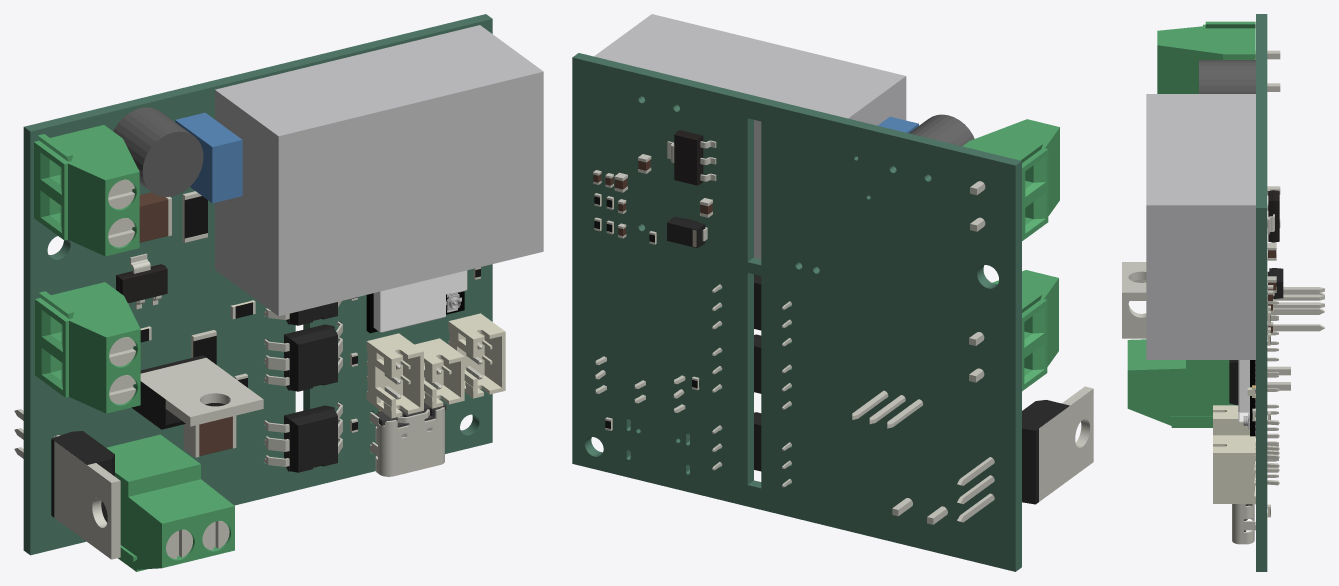
The model's file is board.glb.
The picture shows the model from 3 angles, left to right: view 1: azimuth 30°, elevation 25°; view 2: azimuth 150°, elevation 25°; view 3: azimuth 270°, elevation 25°; orthographic projection. The views are drawn at different scales.
Visible parts, largest first — view 1: PS1, =>[0:1:1:36], =>[0:1:1:29]_75e5cc, =>[0:1:1:3]_1, =>[0:1:1:3]_93bc2a, =>[0:1:1:15]_1_f2f5b0, F1, =>[0:1:1:15], =>[0:1:1:13]_1_2037d8, =>[0:1:1:11]_d8ef07, RV1, =>[0:1:1:27]_49803c (+17 smaller); view 2: =>[0:1:1:36], PS1, =>[0:1:1:15]_1_f2f5b0, =>[0:1:1:3]_93bc2a, =>[0:1:1:3]_1, =>[0:1:1:15]_1_cbd7c0, =>[0:1:1:7]_1_07e9d8, F1, =>[0:1:1:15], =>[0:1:1:35]_588b12; view 3: PS1, =>[0:1:1:36], =>[0:1:1:29]_75e5cc, =>[0:1:1:3]_93bc2a, =>[0:1:1:13]_ce2a75, F1, =>[0:1:1:15], =>[0:1:1:15]_1_f2f5b0, =>[0:1:1:11]_d8ef07, =>[0:1:1:13]_1_2037d8, =>[0:1:1:27]_49803c, =>[0:1:1:7]_1_07e9d8 (+5 smaller).
Part boxes in pixels (x1,y1,x2,y2): PS1: (215, 25, 543, 316); =>[0:1:1:36]: (23, 14, 492, 555); =>[0:1:1:29]_75e5cc: (106, 434, 234, 571); =>[0:1:1:3]_1: (35, 282, 140, 413); =>[0:1:1:3]_93bc2a: (34, 125, 139, 256); =>[0:1:1:15]_1_f2f5b0: (14, 409, 120, 559); F1: (113, 107, 203, 196); =>[0:1:1:15]: (140, 357, 263, 426); =>[0:1:1:13]_1_2037d8: (366, 333, 423, 418); =>[0:1:1:11]_d8ef07: (370, 407, 444, 476); RV1: (175, 112, 242, 203); =>[0:1:1:27]_49803c: (373, 270, 467, 332); =>[0:1:1:36]: (572, 53, 1021, 571); PS1: (594, 14, 906, 258); =>[0:1:1:15]_1_f2f5b0: (957, 386, 1093, 522); =>[0:1:1:3]_93bc2a: (962, 119, 1059, 240); =>[0:1:1:3]_1: (992, 270, 1058, 391); =>[0:1:1:15]_1_cbd7c0: (1022, 400, 1069, 504); =>[0:1:1:7]_1_07e9d8: (674, 130, 703, 185); F1: (909, 114, 974, 146); =>[0:1:1:15]: (852, 390, 923, 428); =>[0:1:1:35]_588b12: (667, 216, 705, 247); PS1: (1146, 94, 1255, 359); =>[0:1:1:36]: (1256, 14, 1267, 571); =>[0:1:1:29]_75e5cc: (1127, 339, 1235, 427); =>[0:1:1:3]_93bc2a: (1157, 21, 1255, 93); =>[0:1:1:13]_ce2a75: (1213, 439, 1255, 503); F1: (1199, 60, 1255, 93); =>[0:1:1:15]: (1122, 262, 1324, 308); =>[0:1:1:15]_1_f2f5b0: (1122, 280, 1324, 338); =>[0:1:1:11]_d8ef07: (1232, 473, 1255, 544); =>[0:1:1:13]_1_2037d8: (1213, 405, 1249, 435); =>[0:1:1:27]_49803c: (1238, 360, 1249, 422); =>[0:1:1:7]_1_07e9d8: (1268, 190, 1279, 242).
Size of the model in its own units: 64.5 by 56.5 by 28.52.
